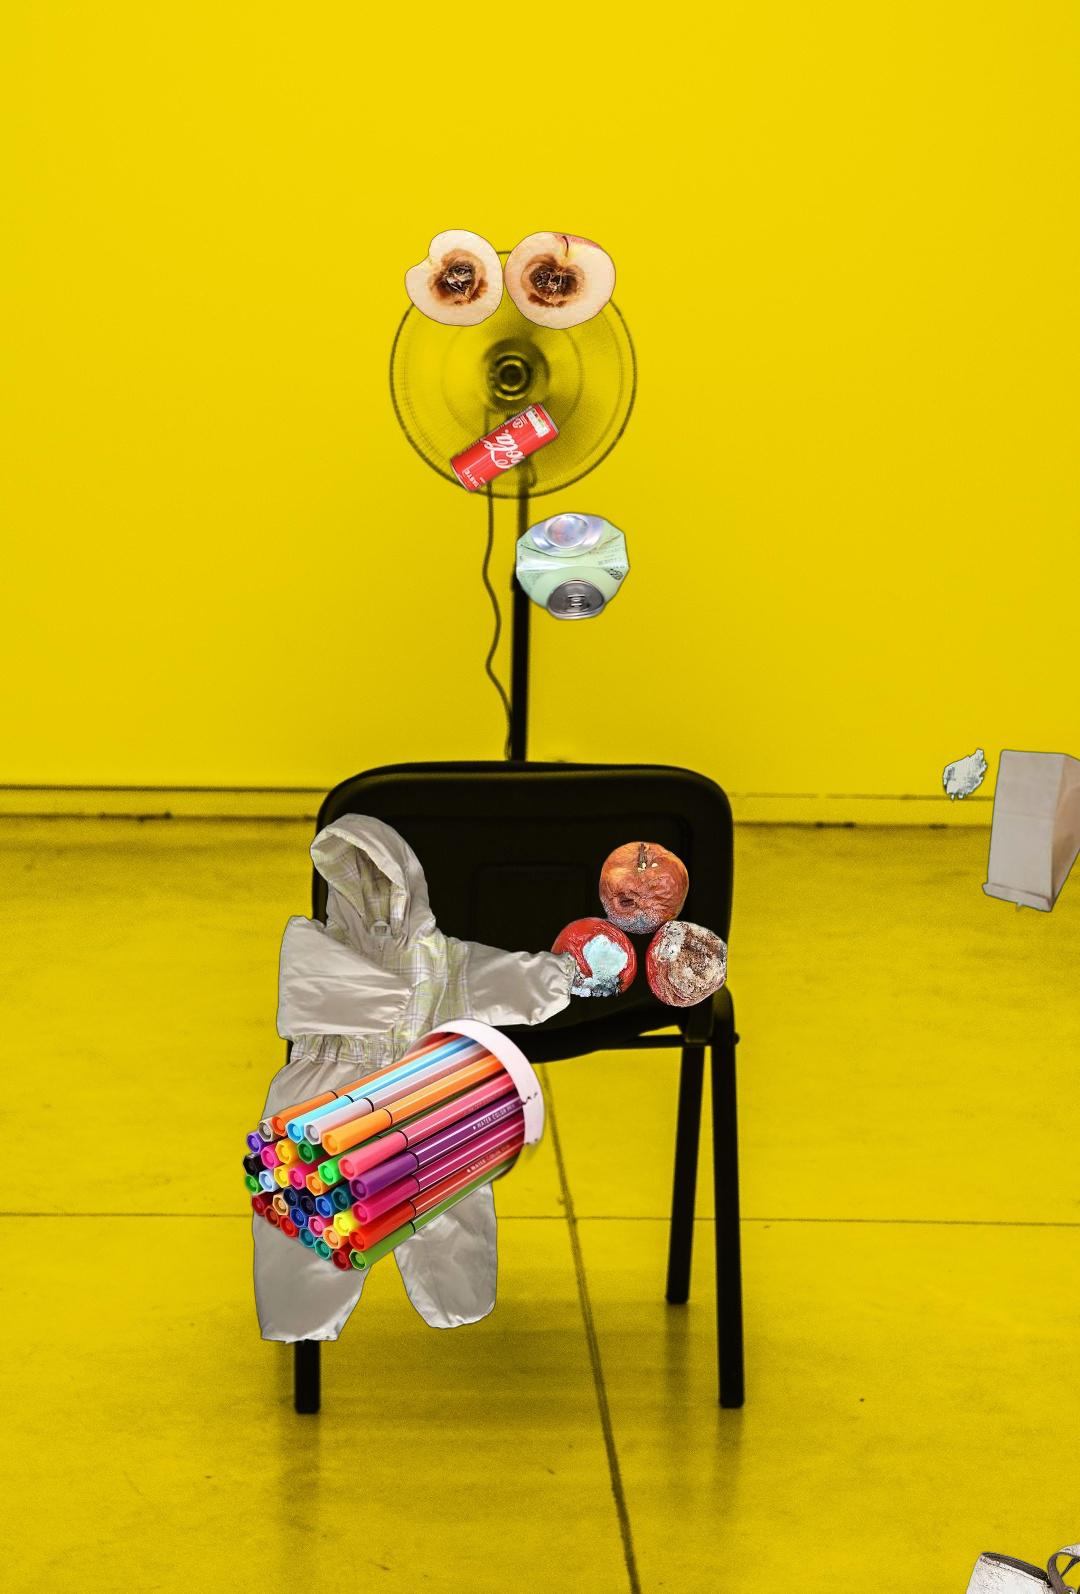biological: (545, 839, 727, 1022), (404, 227, 618, 333)
clothes: (250, 813, 579, 1346)
metal-cans: (512, 506, 925, 628), (445, 396, 564, 500)
paper-bag: (941, 746, 1080, 992)
penholder: (239, 1014, 547, 1274)
shoes: (953, 1536, 1080, 1594)
